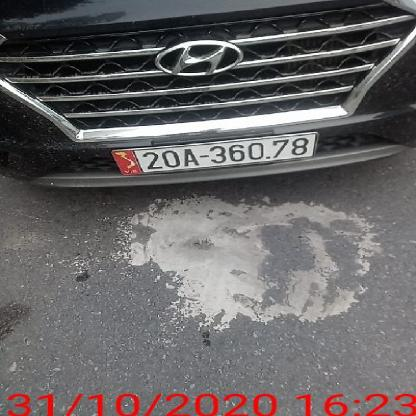biensoxe: (110, 135, 329, 174)
